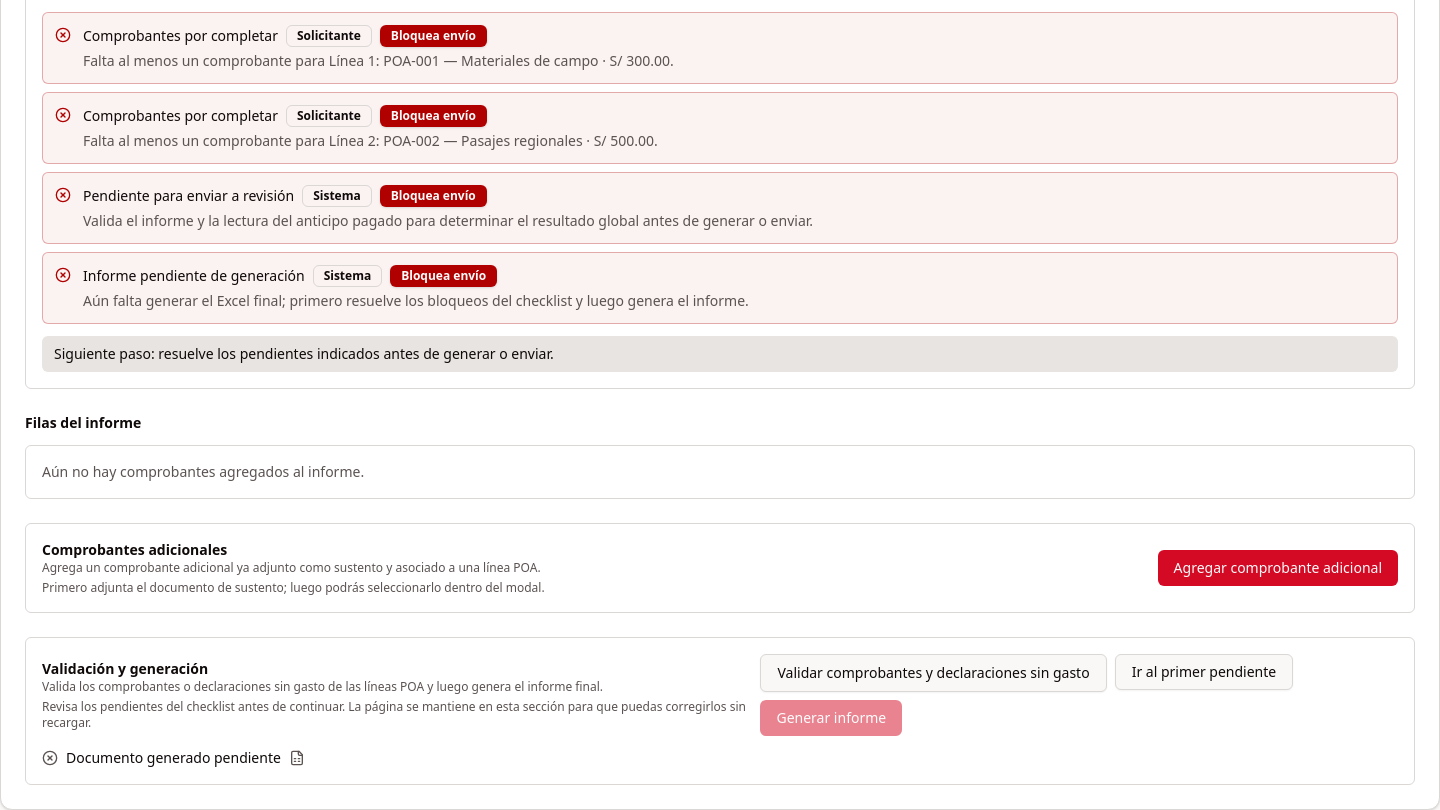
Test case: StructuredRenditionReportCard › habilita el modal manual con dos líneas POA aunque aún falte adjuntar sustento
(page scrolled)
Expected: the text "Primero adjunta el documento de sustento" is shown, x1=42 y1=579 x2=545 y2=596
Click the button "Agregar comprobante adicional".
click(1278, 568)  # box x1=1158 y1=550 x2=1398 y2=586
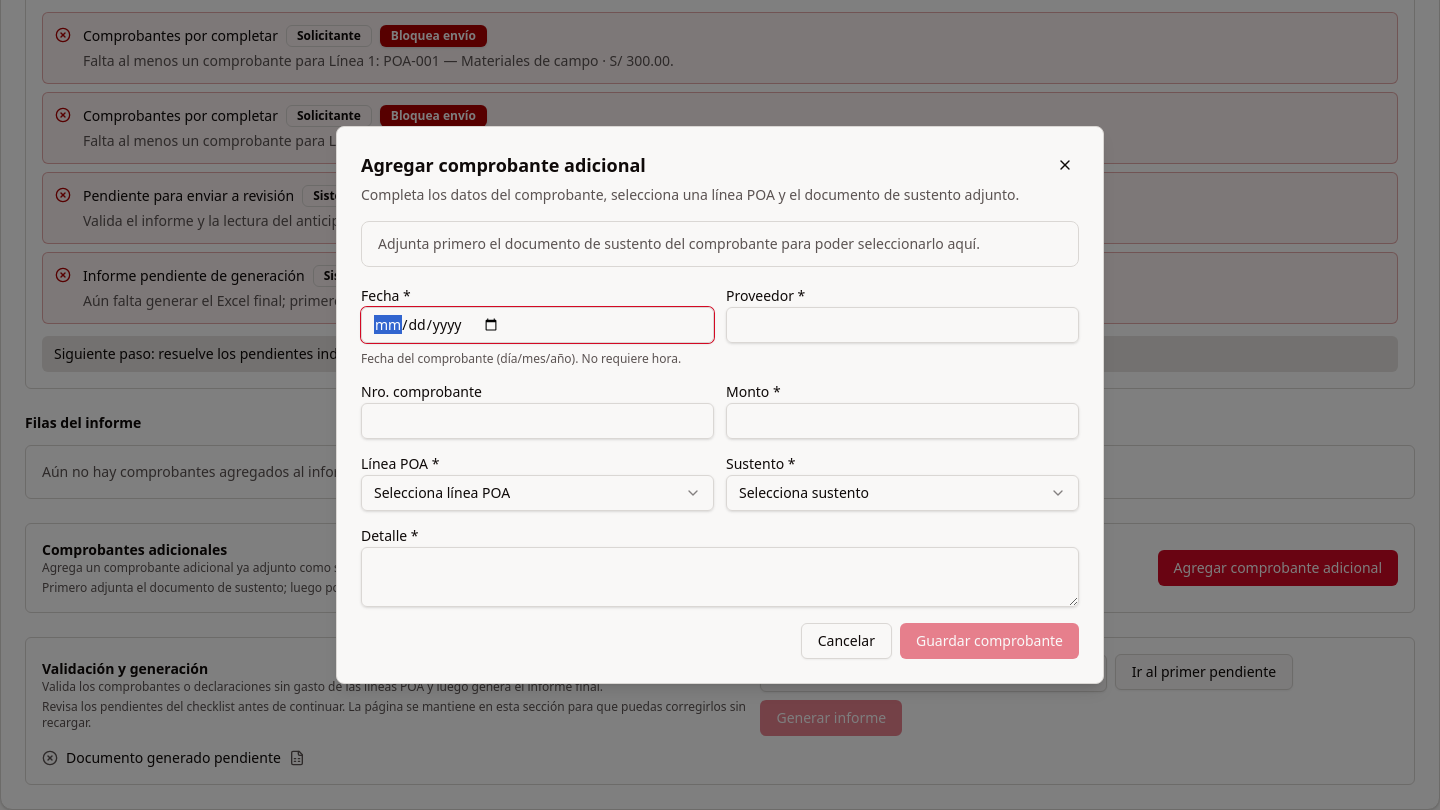
Expected: the dialog "Agregar comprobante adicional" is shown, x1=336 y1=126 x2=1104 y2=684
Expected: the text "Adjunta primero el documento de sustento" is shown, x1=378 y1=234 x2=980 y2=253
Expected: the button "Guardar comprobante" is disabled, x1=900 y1=623 x2=1079 y2=659
